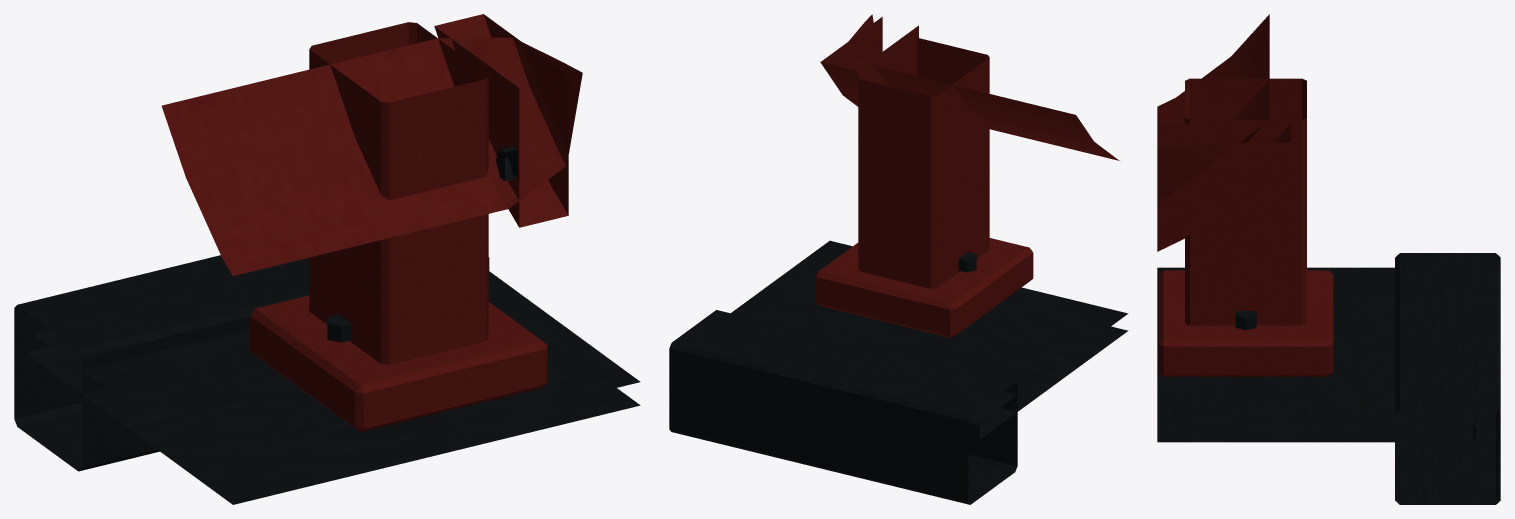
The model's file is cell_2.obj.
3 views of the same model, side by side, from view 1: azimuth 30°, elevation 25°; view 2: azimuth 150°, elevation 25°; view 3: azimuth 270°, elevation 25° (orthographic). The views are drawn at different scales.
Parts seen in each view (by area): view 1: cell_2; view 2: cell_2; view 3: cell_2.
Part boxes in pixels (x1,y1,x2,y2): cell_2: [14, 14, 640, 504]; cell_2: [669, 14, 1128, 504]; cell_2: [1157, 14, 1500, 504].
Bounding box in the file's own units: 1 × 1 × 0.93.
